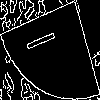I: (25, 25, 64, 53)
